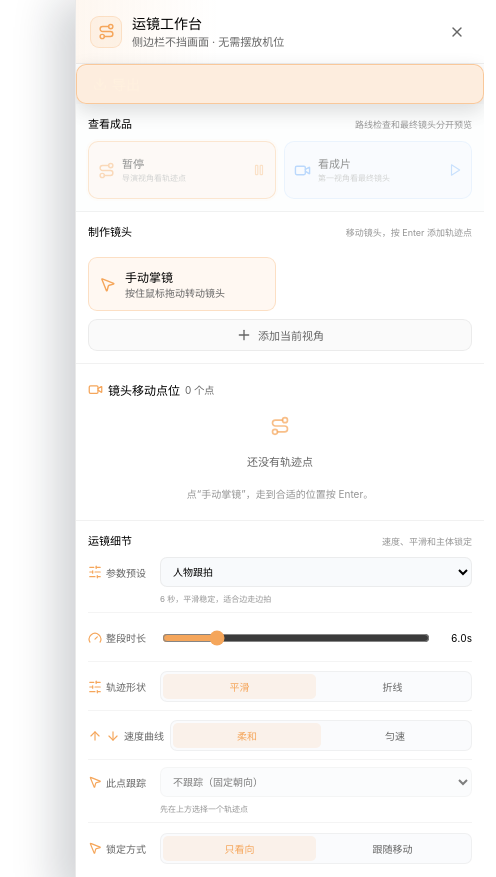
Test case: starts pilot mode and records the current view as a numbered waypoint
Click the button "手动掌镜 按住鼠标拖动转动镜头" at point(182, 284), box [88,257,276,311]
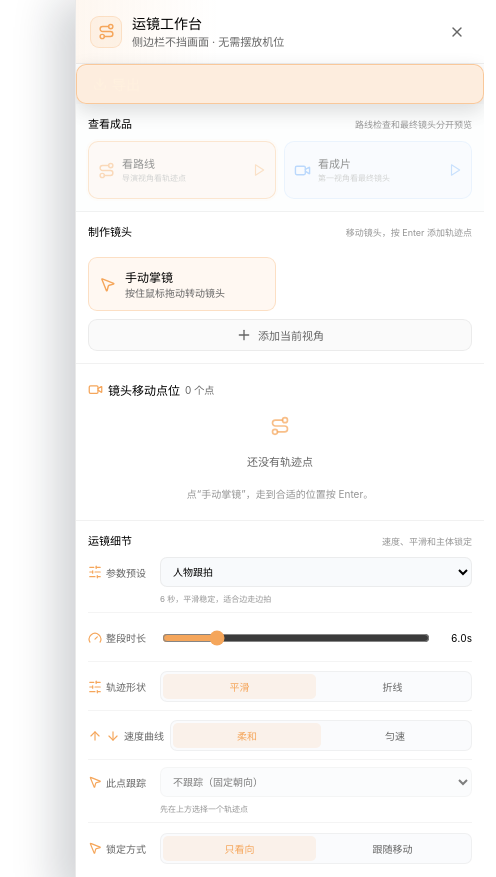
Click the button with aria-label "添加当前视角为轨迹点" at point(280, 335), box [88,319,472,351]
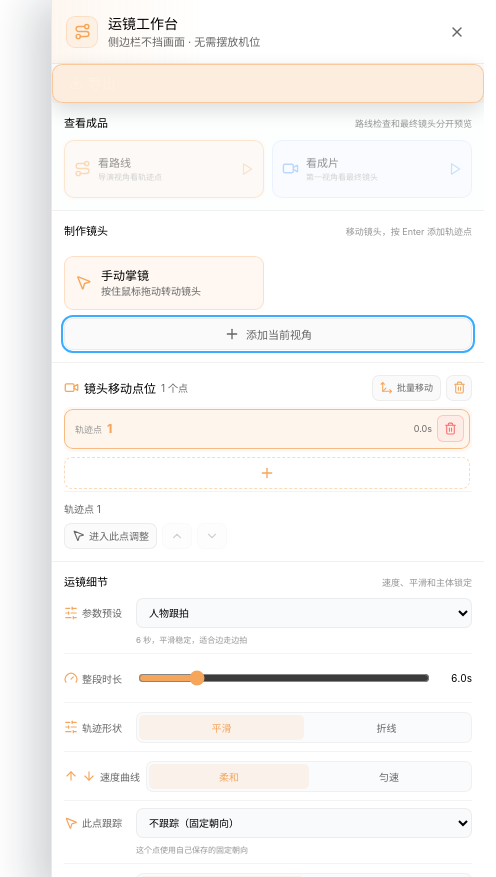
Now the button named "选择轨迹点 1" is shown, box [64,409,470,449]
